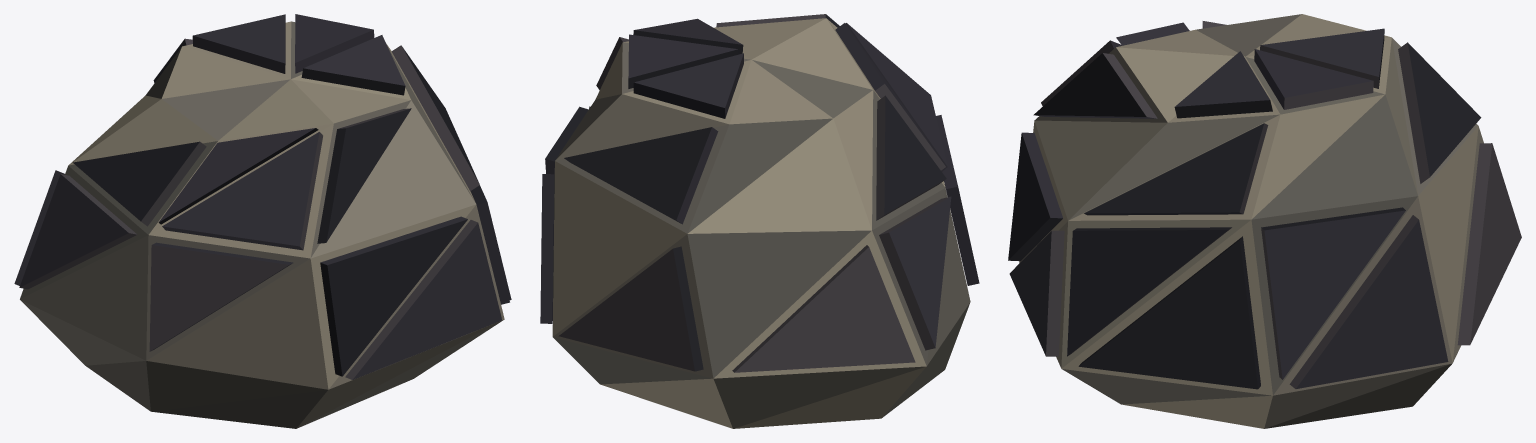
Rendered from coal.glb.
3 views of the same model, side by side, from view 1: azimuth 30°, elevation 25°; view 2: azimuth 150°, elevation 25°; view 3: azimuth 270°, elevation 25° (orthographic). The views are drawn at different scales.
Visible parts, largest first — view 1: coal; view 2: coal; view 3: coal.
Boxes of the visible parts, x1,y1,x2,y2 form: coal: [14, 14, 511, 428]; coal: [540, 14, 979, 428]; coal: [1008, 14, 1521, 428].
Size of the model in its own units: 0.3022 by 0.2066 by 0.2964.
